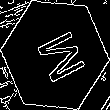M_SW: (25, 23, 85, 87)
